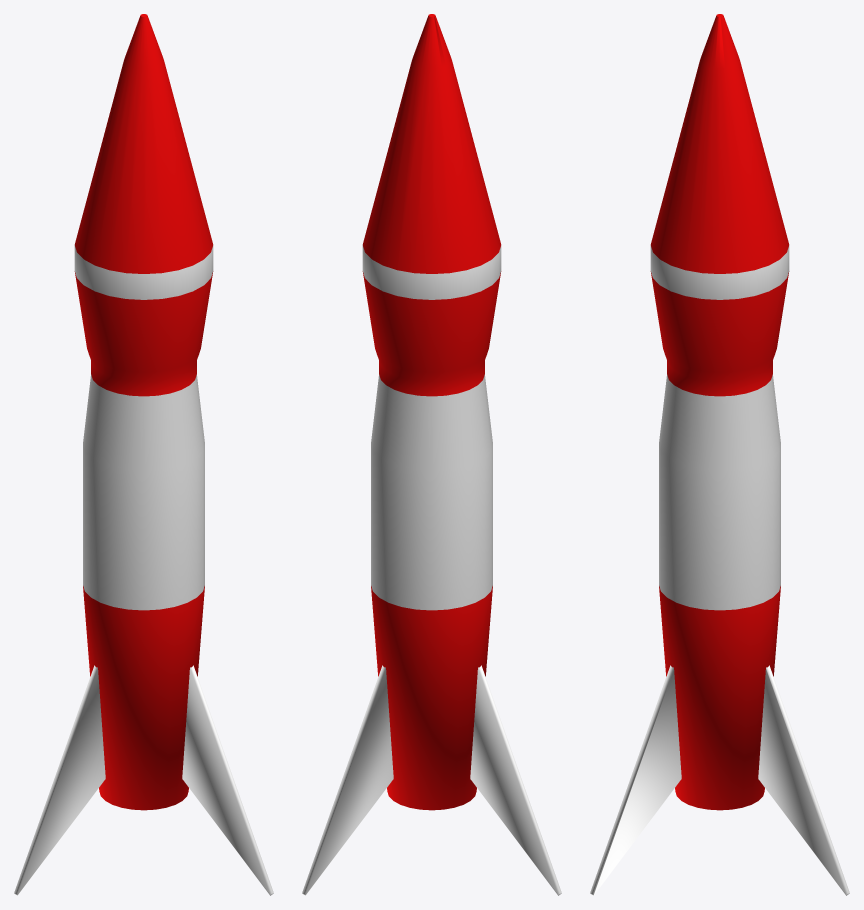
The model's file is rocket2.fbx.
3 views of the same model, side by side, from view 1: azimuth 30°, elevation 25°; view 2: azimuth 150°, elevation 25°; view 3: azimuth 270°, elevation 25° (orthographic).
Parts seen in each view (by area): view 1: mini_armor_piercing_missile; view 2: mini_armor_piercing_missile; view 3: mini_armor_piercing_missile.
Boxes of the visible parts, bbox=[...] form: mini_armor_piercing_missile: bbox=[14, 14, 273, 895]; mini_armor_piercing_missile: bbox=[302, 14, 561, 895]; mini_armor_piercing_missile: bbox=[590, 14, 849, 895].
Bounding box in the file's own units: 2.76 × 11.48 × 3.19.
